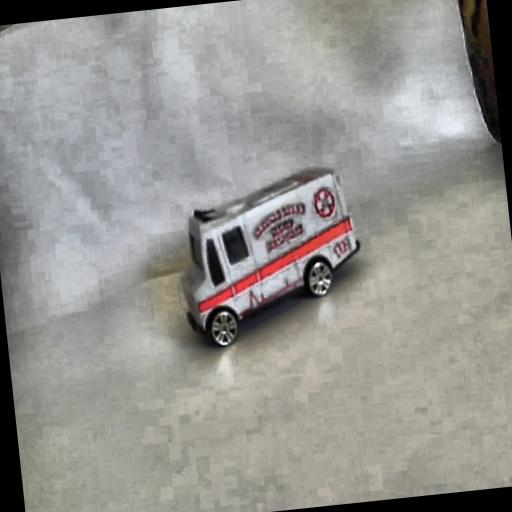ambulance: (171, 162, 369, 350)
